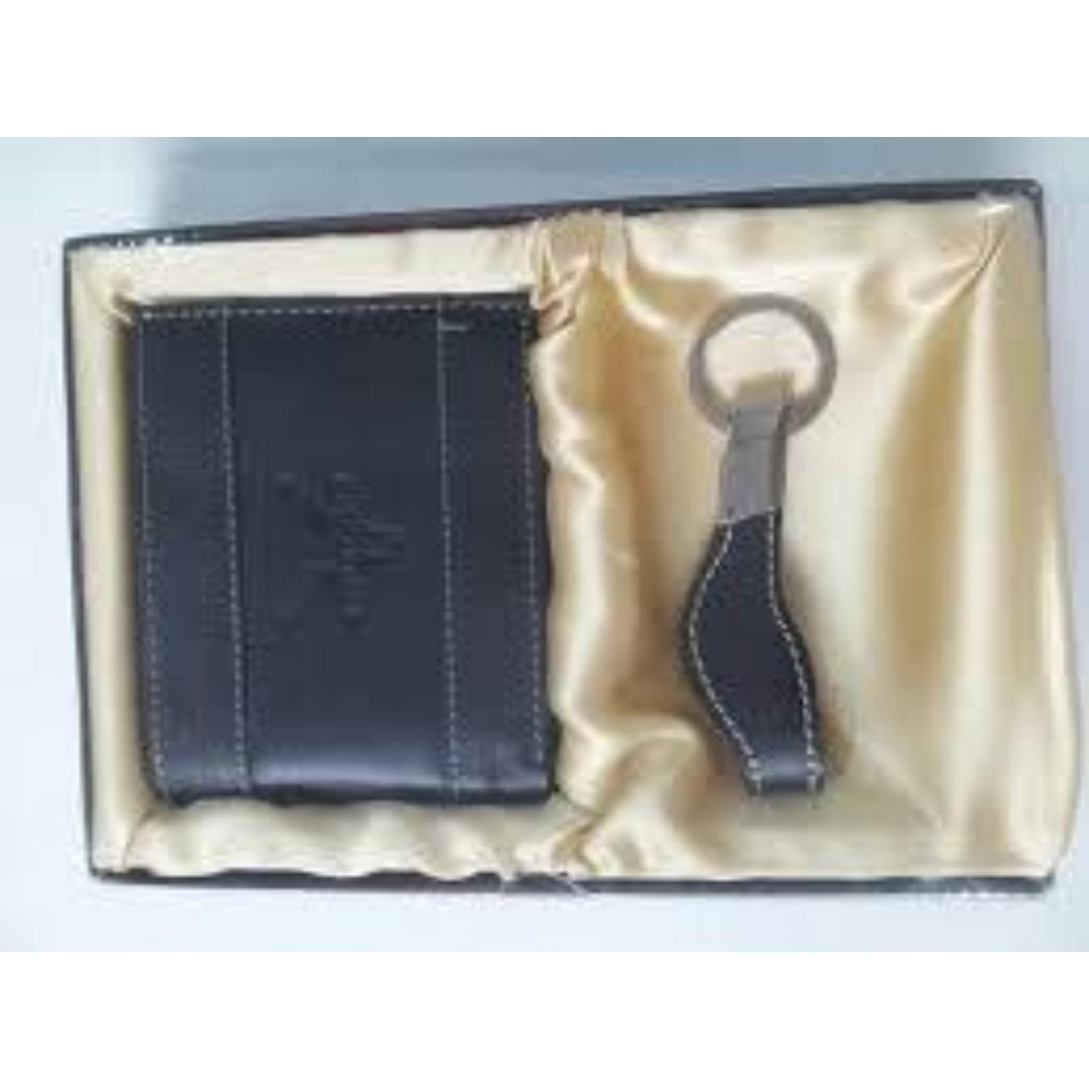wallet: (123, 291, 589, 824)
